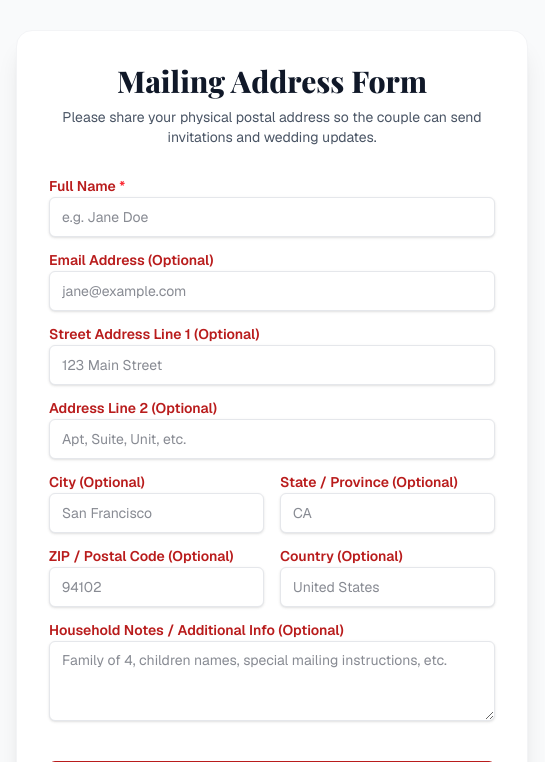
it: GuestAddressCollectPage (/guest/collect) › submits valid form data and renders confirmation screen
Type "Alice Guest" into the field labelled "Full Name *".
click(272, 217); type("Alice Guest")  # box [49,197,495,237]
Type "alice@example.com" into the field labelled "Email Address (Optional)".
click(272, 291); type("alice@example.com")  # box [49,271,495,311]
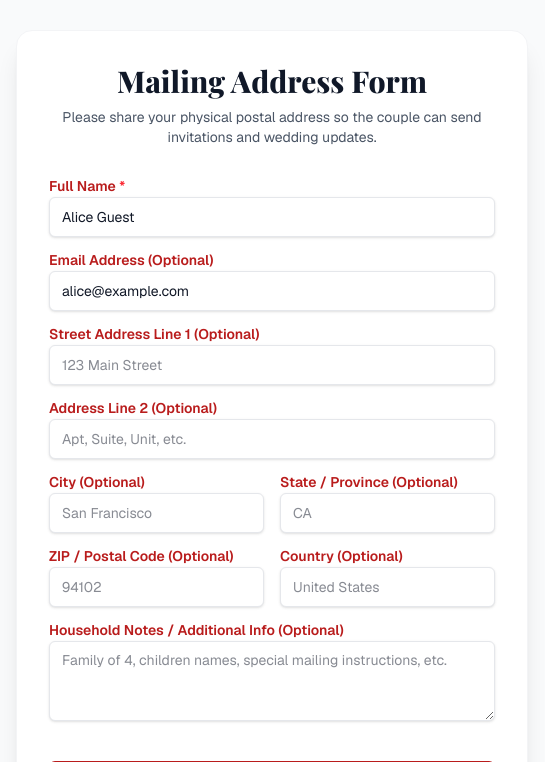
Type "100 Main St" into the field labelled "Street Address Line 1 (Optional)".
click(272, 365); type("100 Main St")  # box [49,345,495,385]
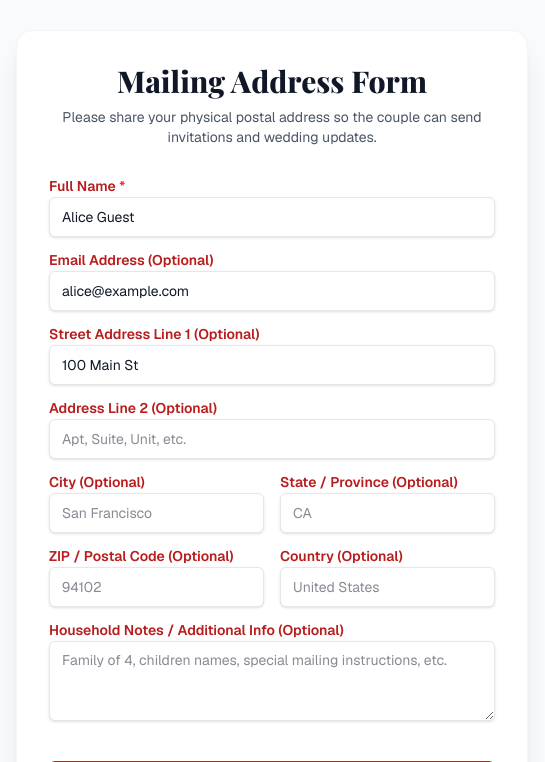
Type "Denver" into the field labelled "City (Optional)".
click(156, 513); type("Denver")  # box [49,493,264,533]
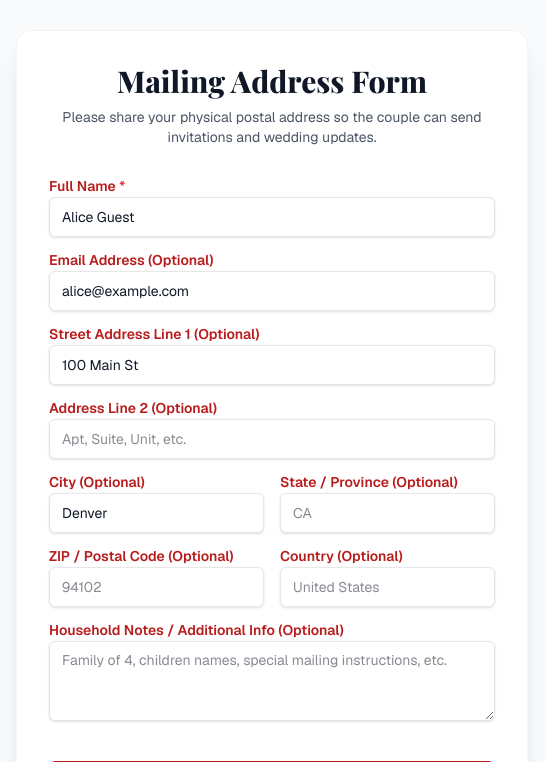
Type "CO" into the field labelled "State / Province (Optional)".
click(388, 513); type("CO")  # box [280,493,495,533]
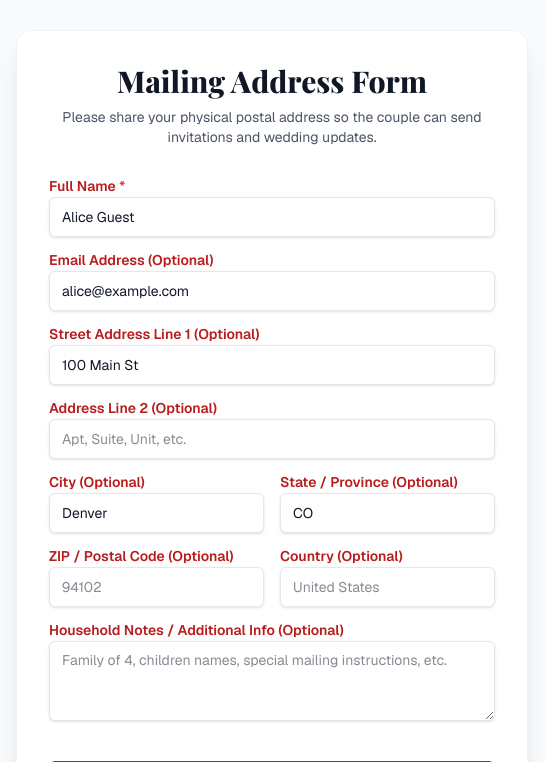
Type "80202" into the field labelled "ZIP / Postal Code (Optional)".
click(156, 587); type("80202")  # box [49,567,264,607]
(page scrolled)
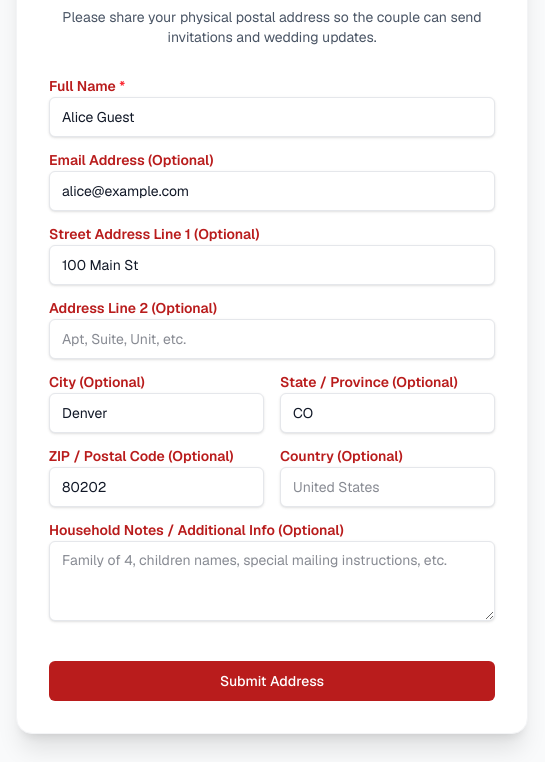
Submit the form named "Submit Address"
(page scrolled)
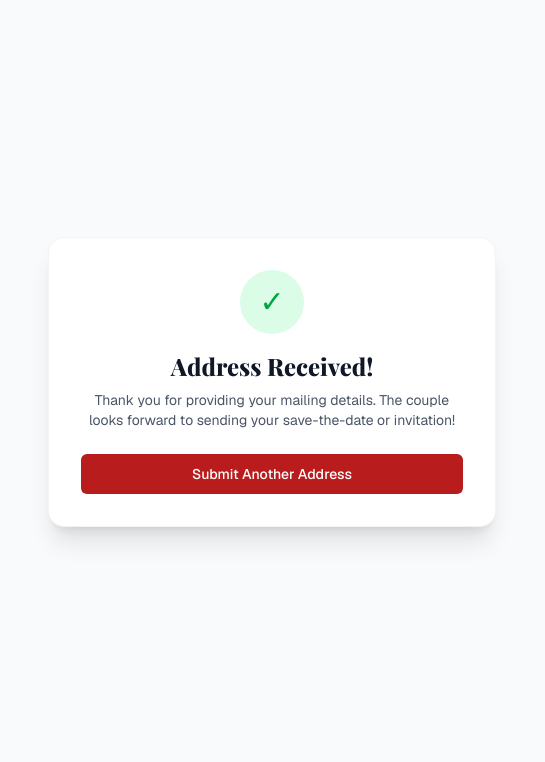
Expected: the heading "Address Received!" is shown, [171,350,373,382]
Expected: the text "Thank you for providing your mailing details" is shown, [89,391,455,429]
